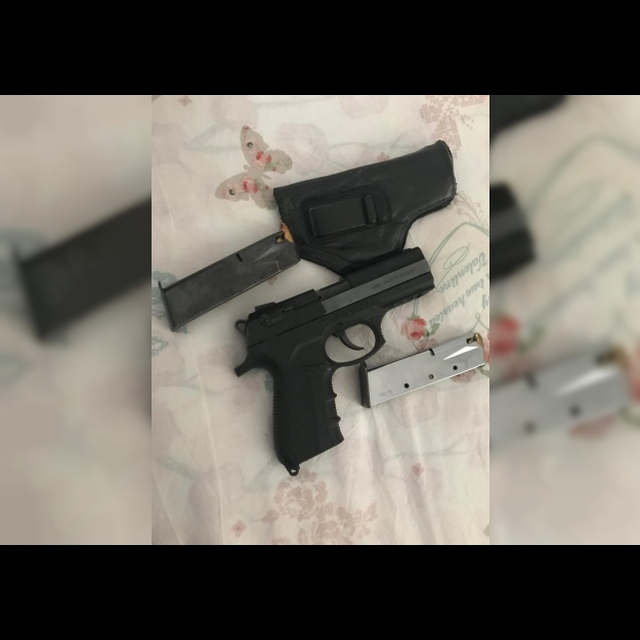SILAH: (224, 244, 434, 484)
